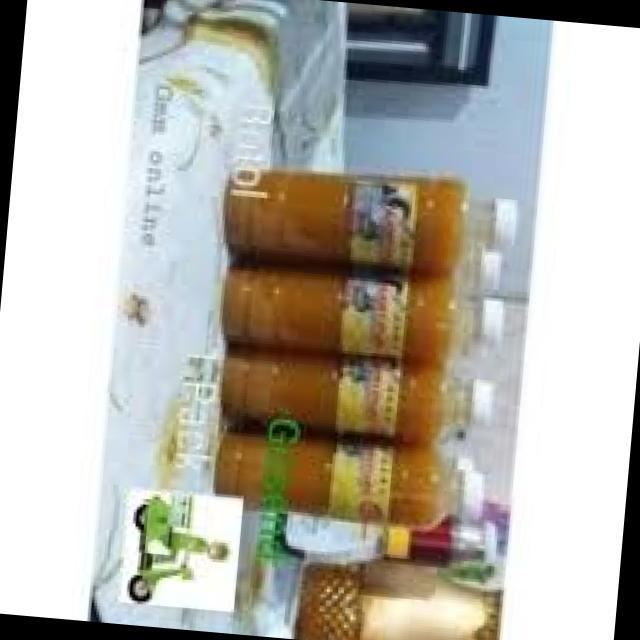good: (198, 419, 504, 557), (222, 154, 530, 287), (216, 332, 498, 462), (216, 261, 499, 382)
